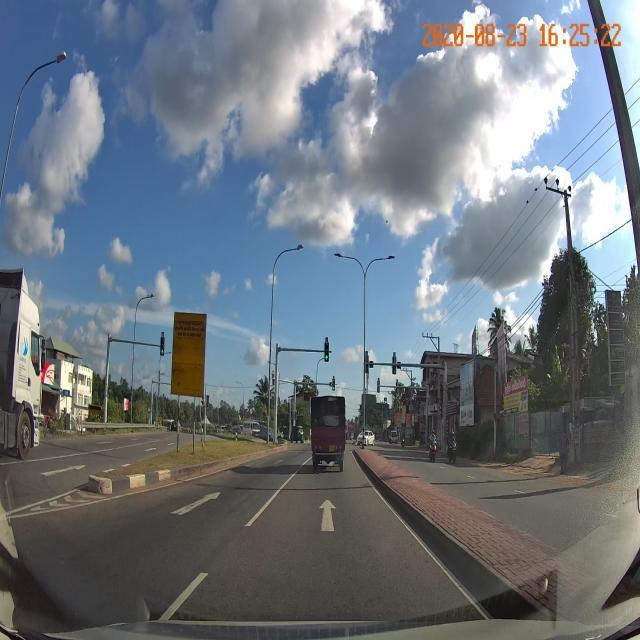forward: (234, 495, 408, 533)
